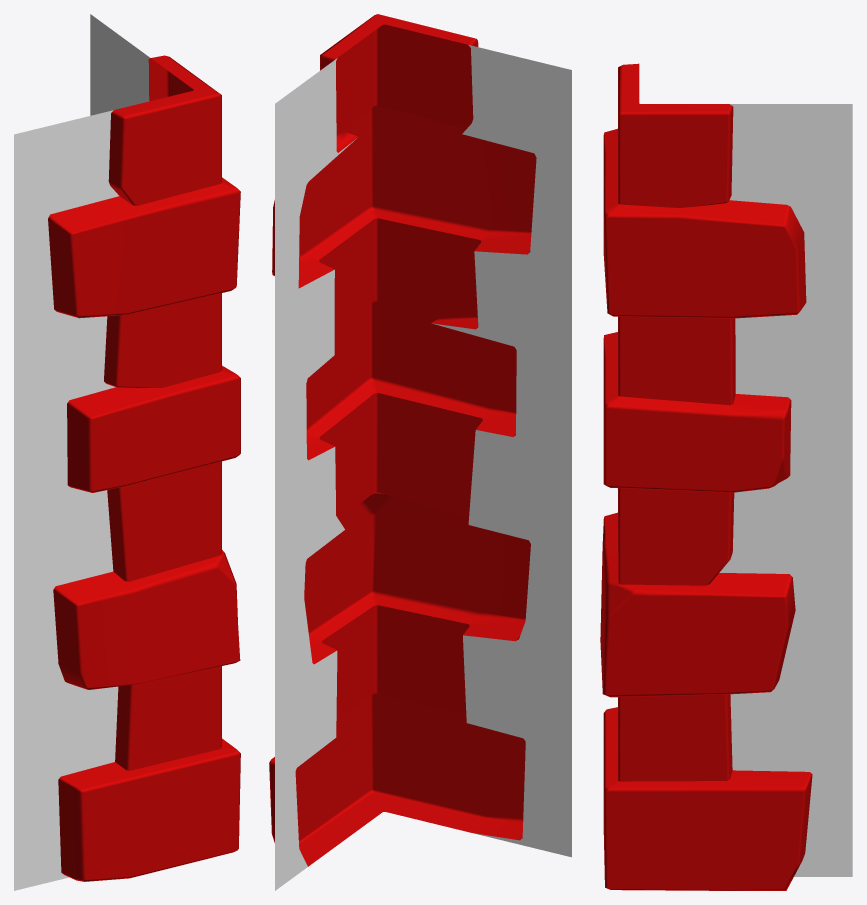
File: Corner_V3_L.fbx
The picture shows the model from 3 angles, left to right: view 1: azimuth 30°, elevation 25°; view 2: azimuth 150°, elevation 25°; view 3: azimuth 270°, elevation 25°; orthographic projection. The views are drawn at different scales.
Visible parts, largest first — view 1: Corner_V3_L TEX; view 2: Corner_V3_L TEX; view 3: Corner_V3_L TEX.
Part boxes in pixels (left/top/right/bottom): Corner_V3_L TEX: left=14, top=14, right=240, bottom=890; Corner_V3_L TEX: left=269, top=14, right=571, bottom=890; Corner_V3_L TEX: left=600, top=63, right=852, bottom=890.
Bounding box in the file's own units: 176 × 600 × 177.
